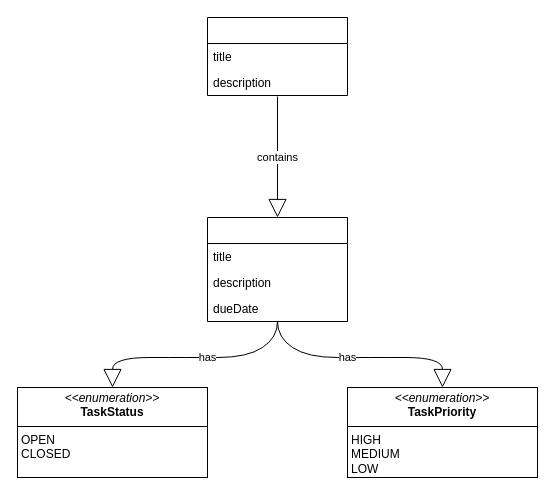
Image size: 555x495. Some labels were removed from this diagram. The box of each missing label's shape, as (x1, y1, x2, y2) in pixels:
Task: (206, 216, 348, 322)
TaskList: (206, 16, 348, 96)
